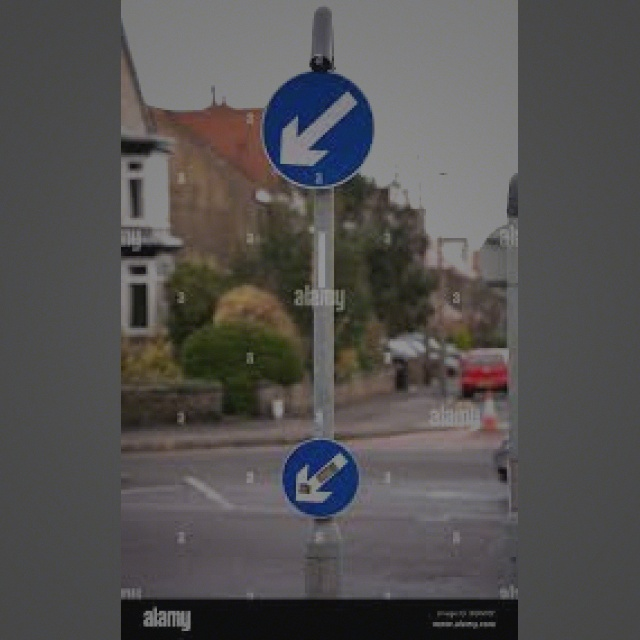Compulsory_Keep_Left: (261, 70, 376, 189)
